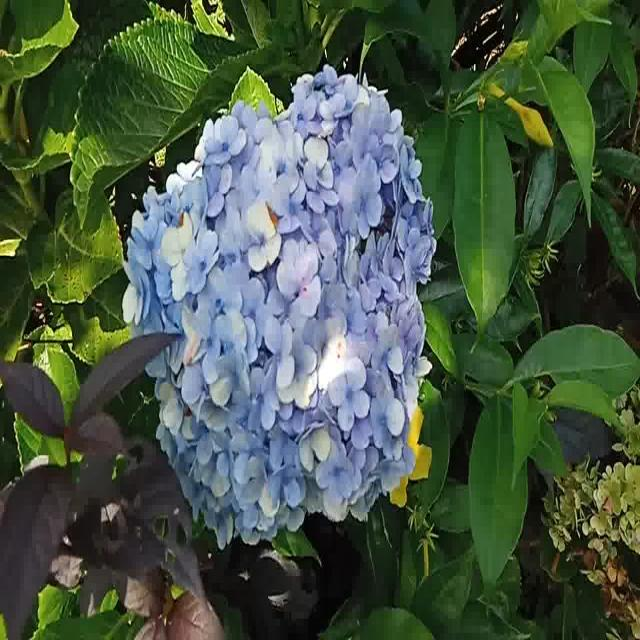Flower: (123, 61, 433, 559)
